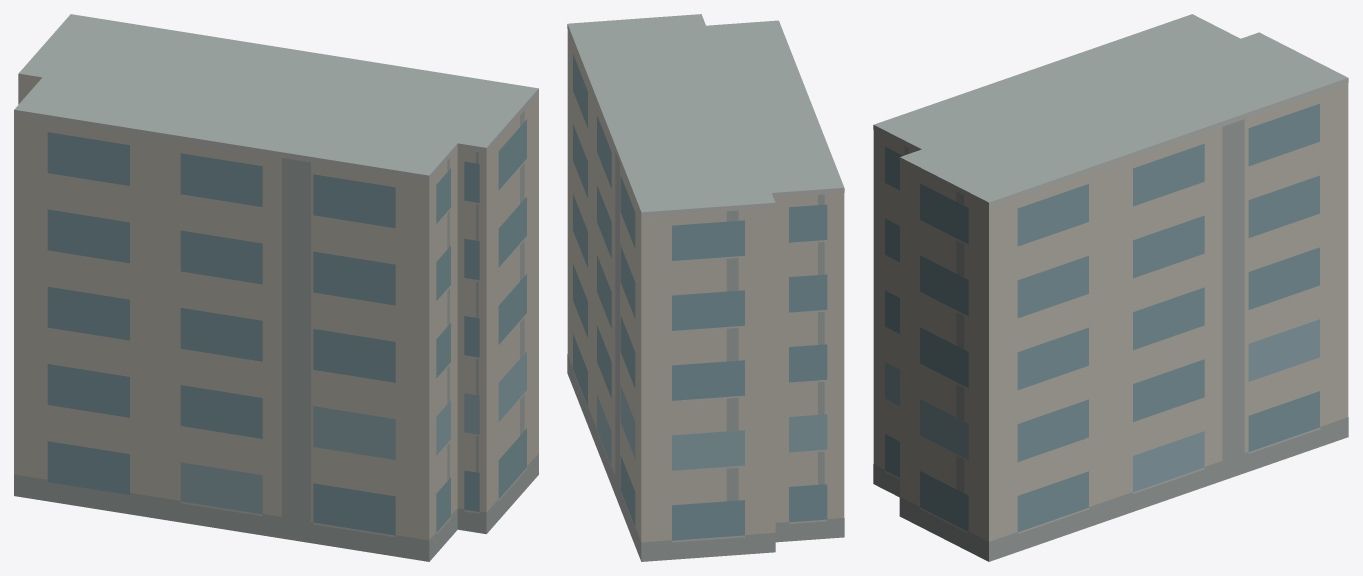
File: survey-upis-32961302.glb
3 views of the same model, side by side, from view 1: azimuth 30°, elevation 25°; view 2: azimuth 150°, elevation 25°; view 3: azimuth 270°, elevation 25° (orthographic). The views are drawn at different scales.
Parts seen in each view (by area): view 1: survey-upis-32961302.tmp; view 2: survey-upis-32961302.tmp; view 3: survey-upis-32961302.tmp.
Part boxes in pixels (bbox=[...]): survey-upis-32961302.tmp: bbox=[14, 14, 538, 561]; survey-upis-32961302.tmp: bbox=[567, 14, 844, 561]; survey-upis-32961302.tmp: bbox=[873, 14, 1348, 561].
Size of the model in its own units: 18.69 by 16.6 by 19.89.
